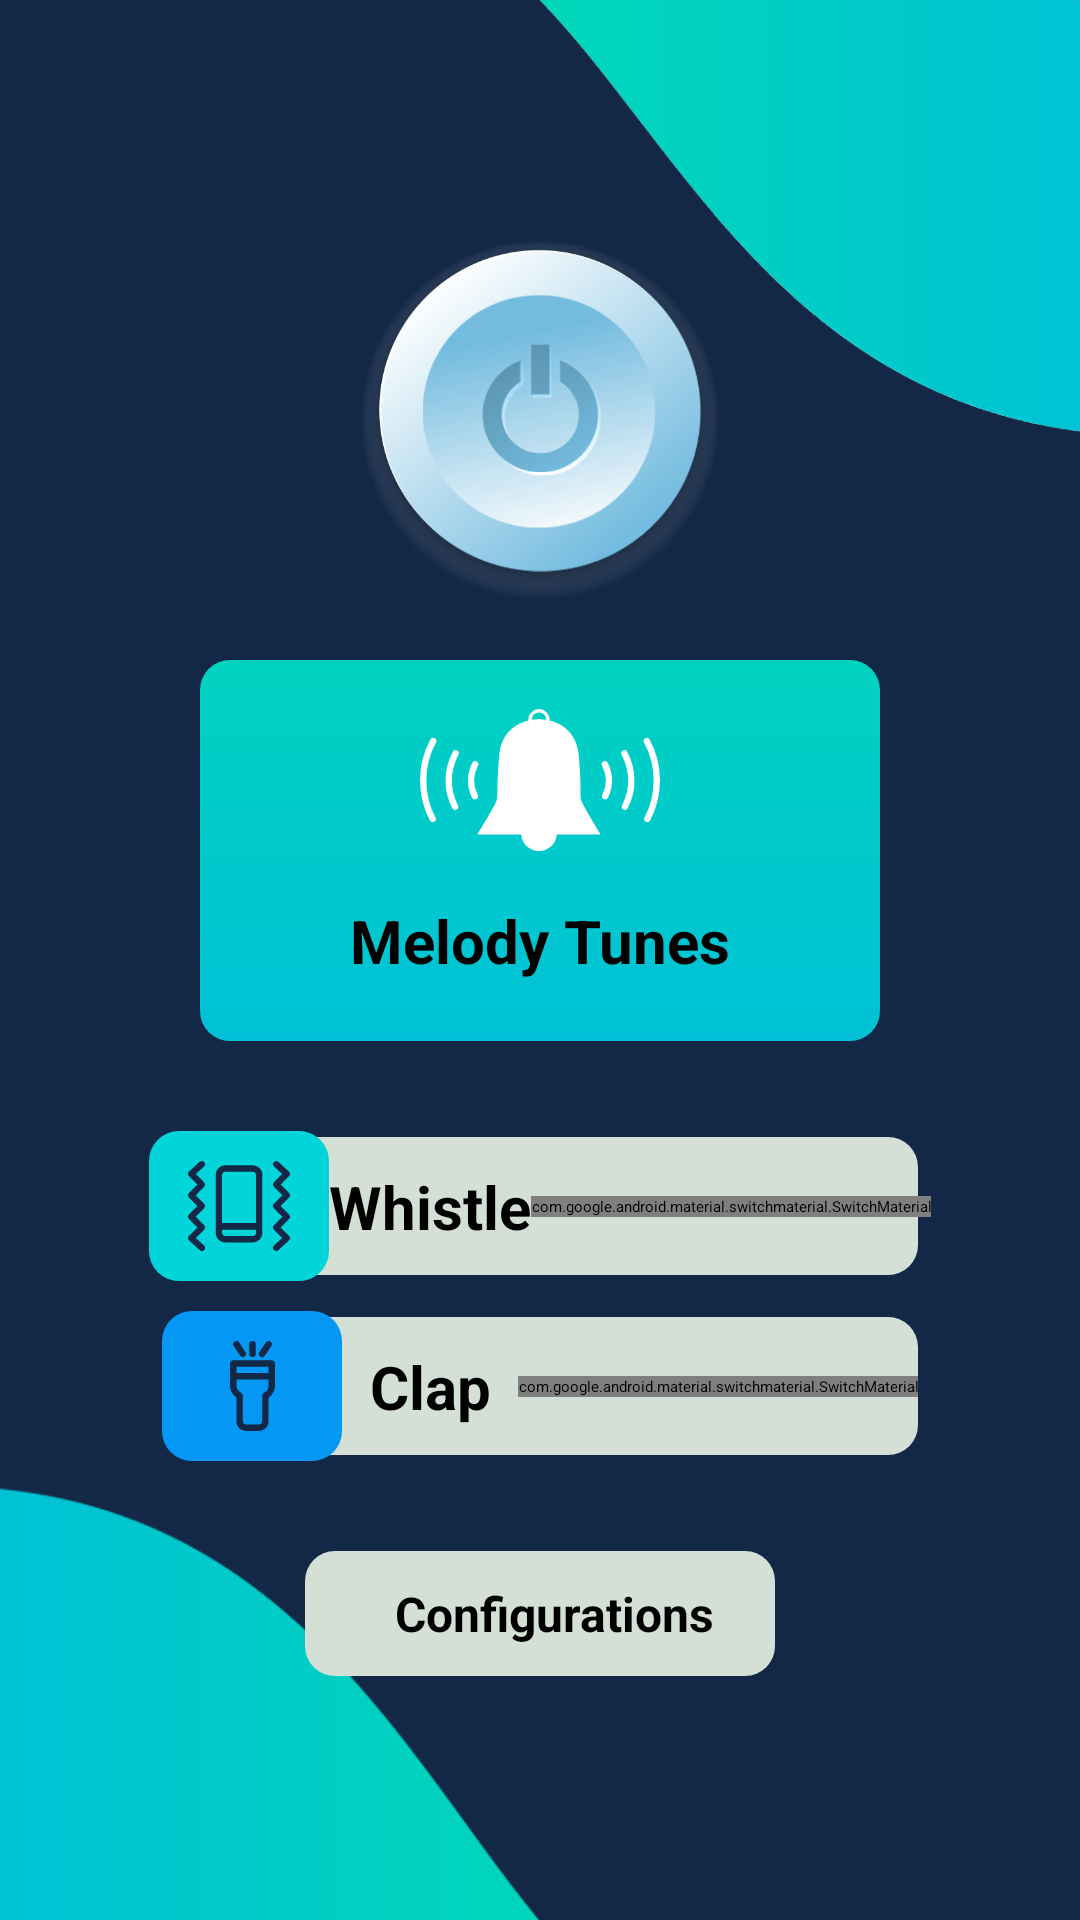

Point at icon controls on the screen. Image size 1080px×1920px, points as point (x, y).
flash: point (252, 1386)
power switch: point (540, 410)
vibrate: point (239, 1206)
